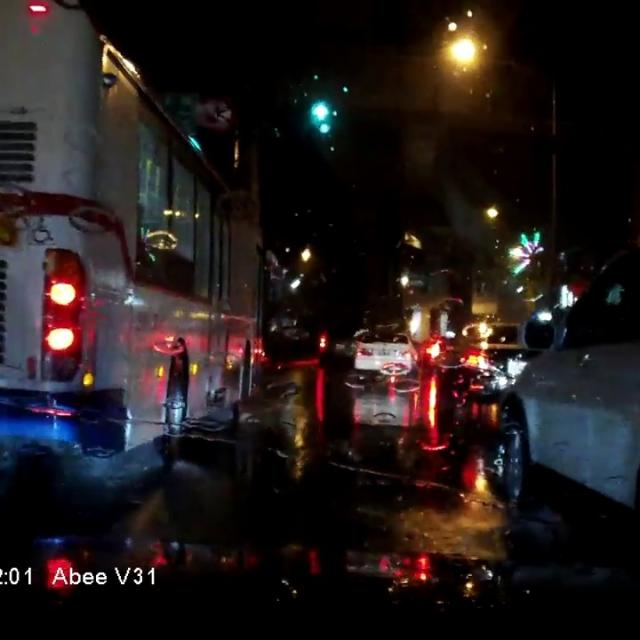Car: (486, 245, 639, 503), (424, 328, 526, 394), (354, 330, 416, 381), (313, 319, 369, 365)
